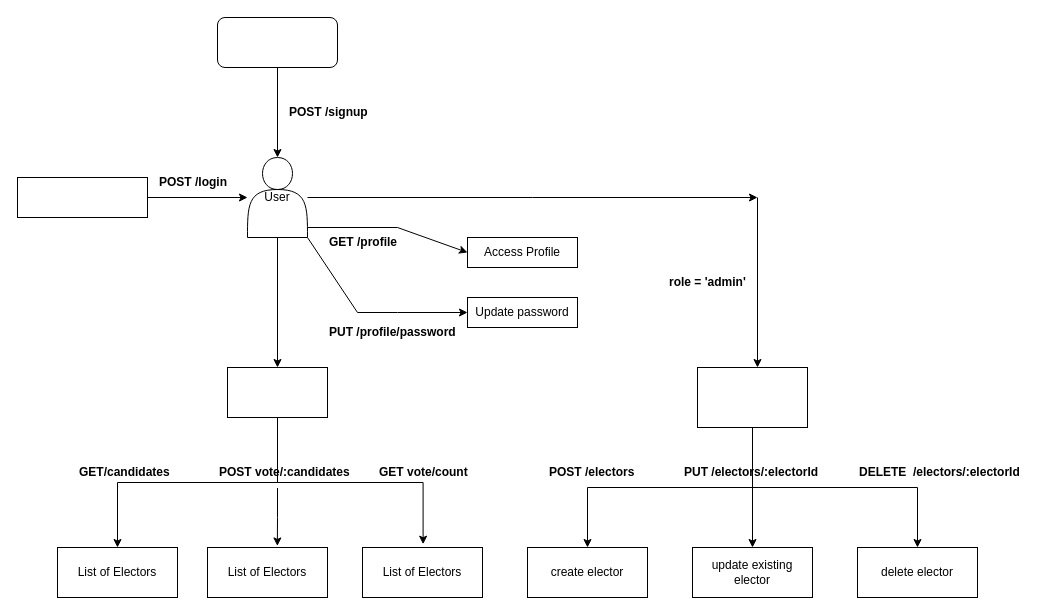
The diagram is 1045 pixels wide and 615 high, and some of its shapes have lost their labels. The shapes that lost their labels are listed below. From the top down, each one's box as (x1, y1, x2, y2) in pixels, then its label:
(216, 16, 338, 68): Create User
(16, 176, 148, 218): Login user
(226, 366, 328, 418): Voting
(696, 366, 808, 428): candidate management
